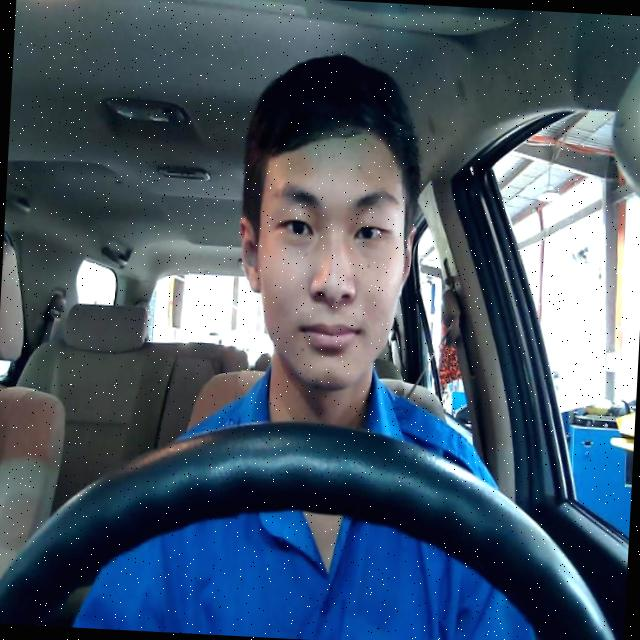focused: (232, 119, 422, 396)
